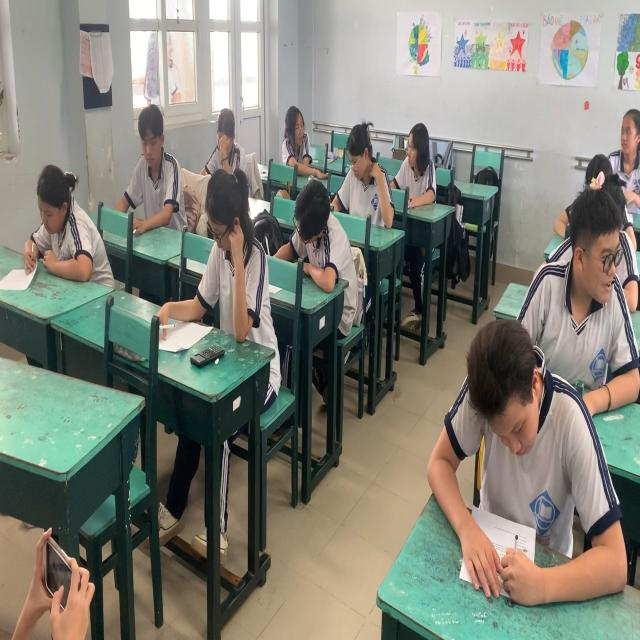cheating: (520, 195, 640, 358), (114, 92, 196, 251), (563, 61, 640, 206), (379, 118, 441, 227), (267, 84, 322, 184)
not_cheating: (427, 274, 633, 578), (185, 147, 269, 394), (23, 125, 109, 307), (274, 157, 359, 323), (554, 126, 640, 290), (323, 110, 389, 266), (196, 98, 245, 194)
